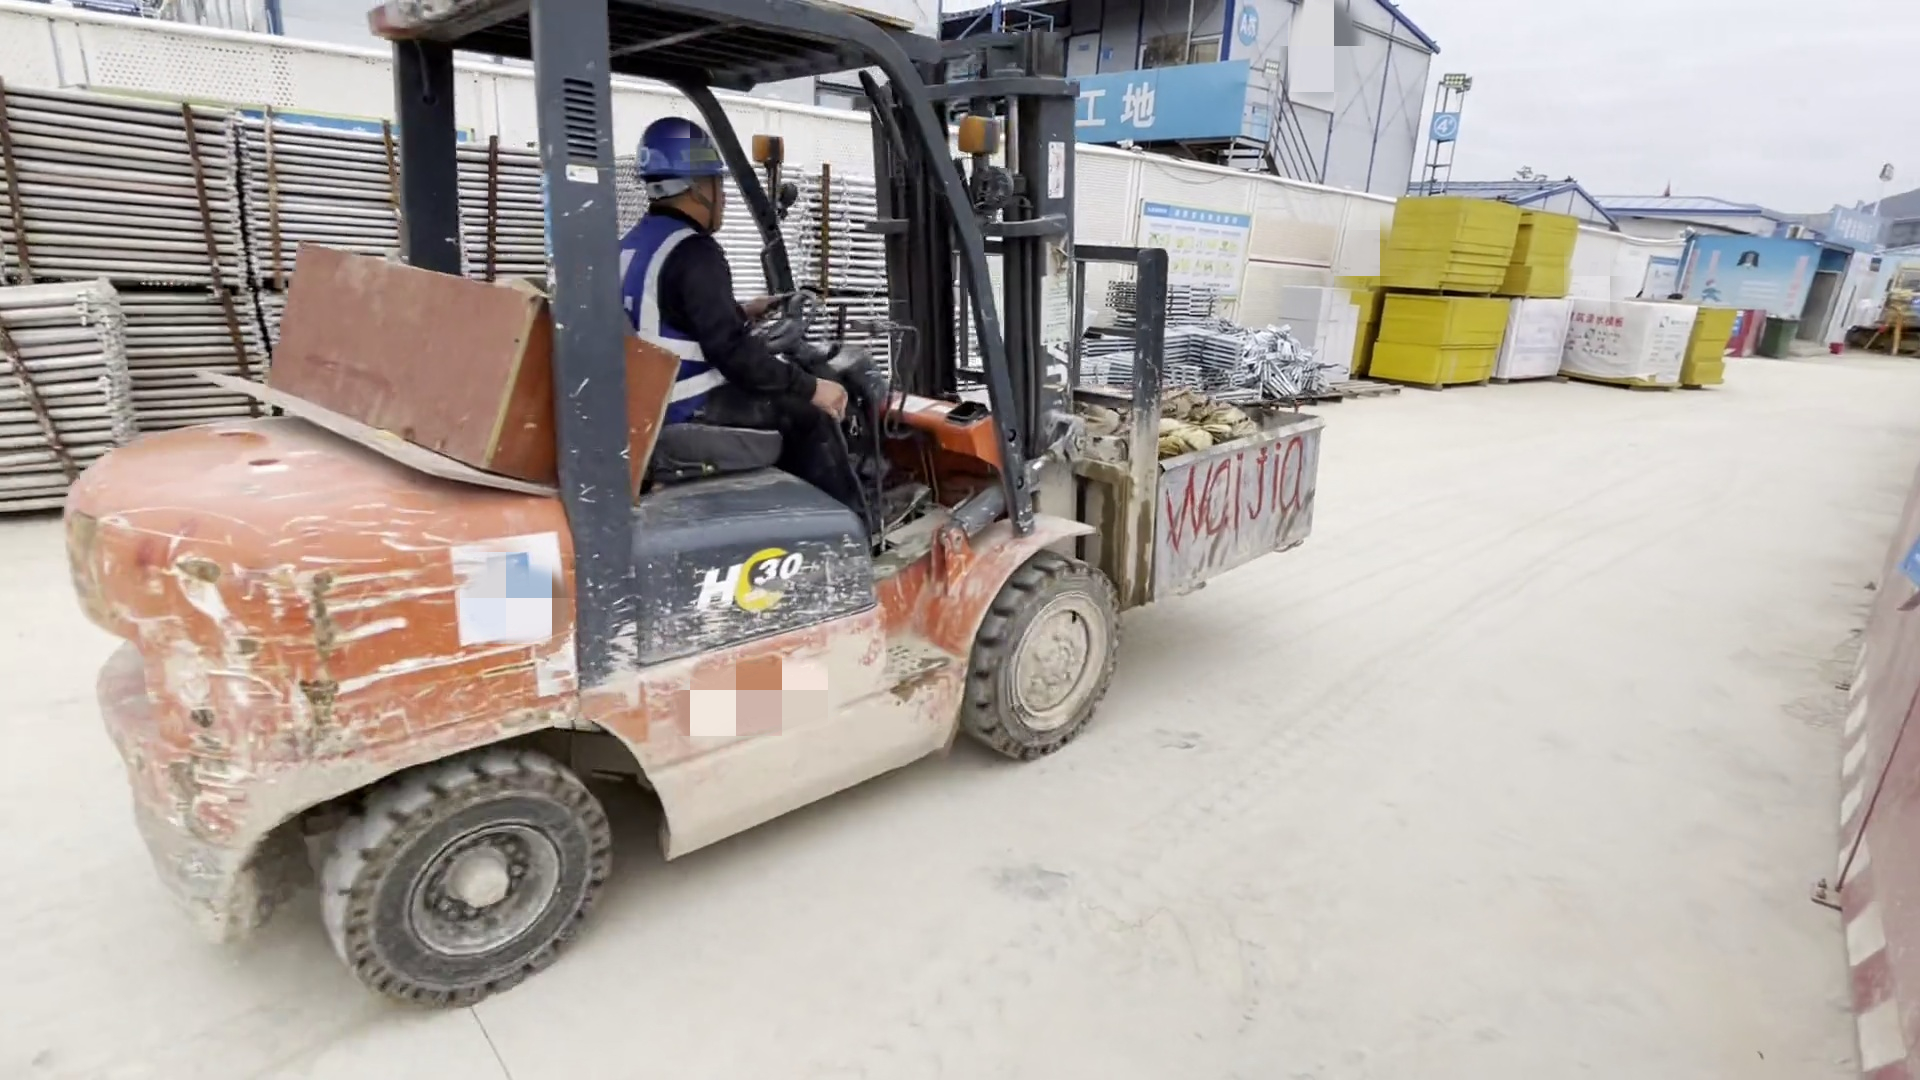helmet: (639, 108, 716, 216)
person: (599, 99, 829, 446)
vest: (622, 227, 754, 425)
